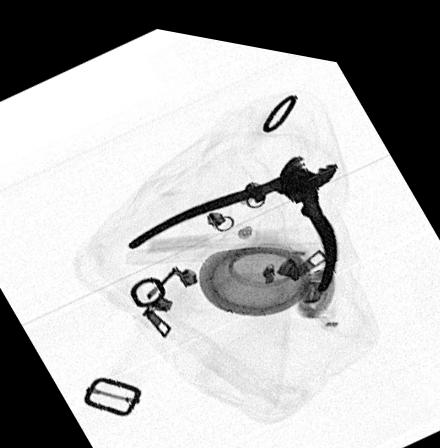Pliers: (119, 140, 343, 285)
